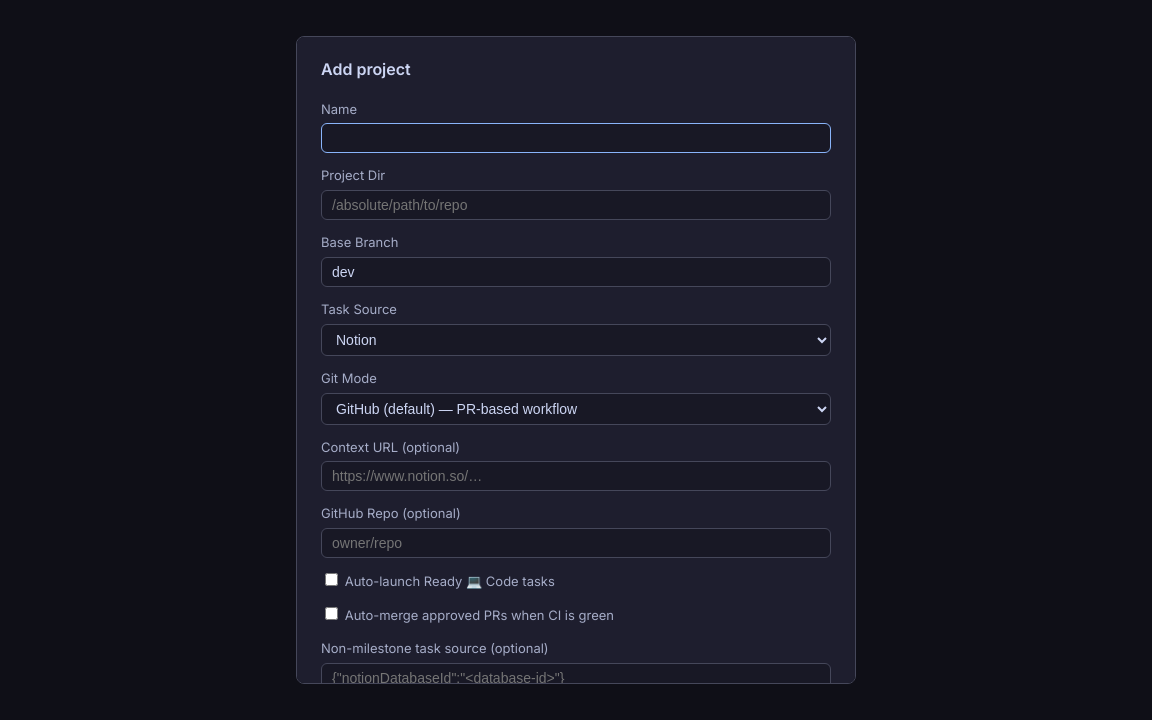
Test: ProjectFormModal › GitHub task source › blocks submit when Repository is empty for GitHub source
This screenshot has width=1152, height=720.
In the field labelled "Name": {"x": 576, "y": 138} [321,123,831,153], type "My Project"
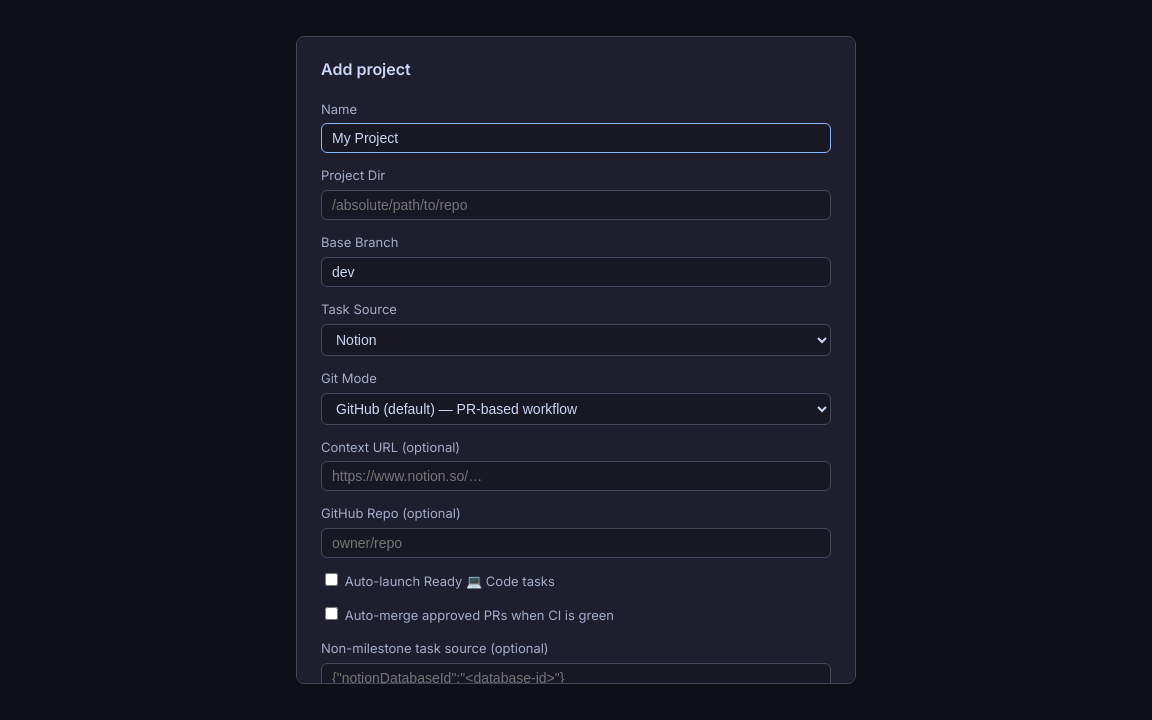
In the field labelled "Project Dir": {"x": 576, "y": 205} [321,190,831,220], type "/some/dir"
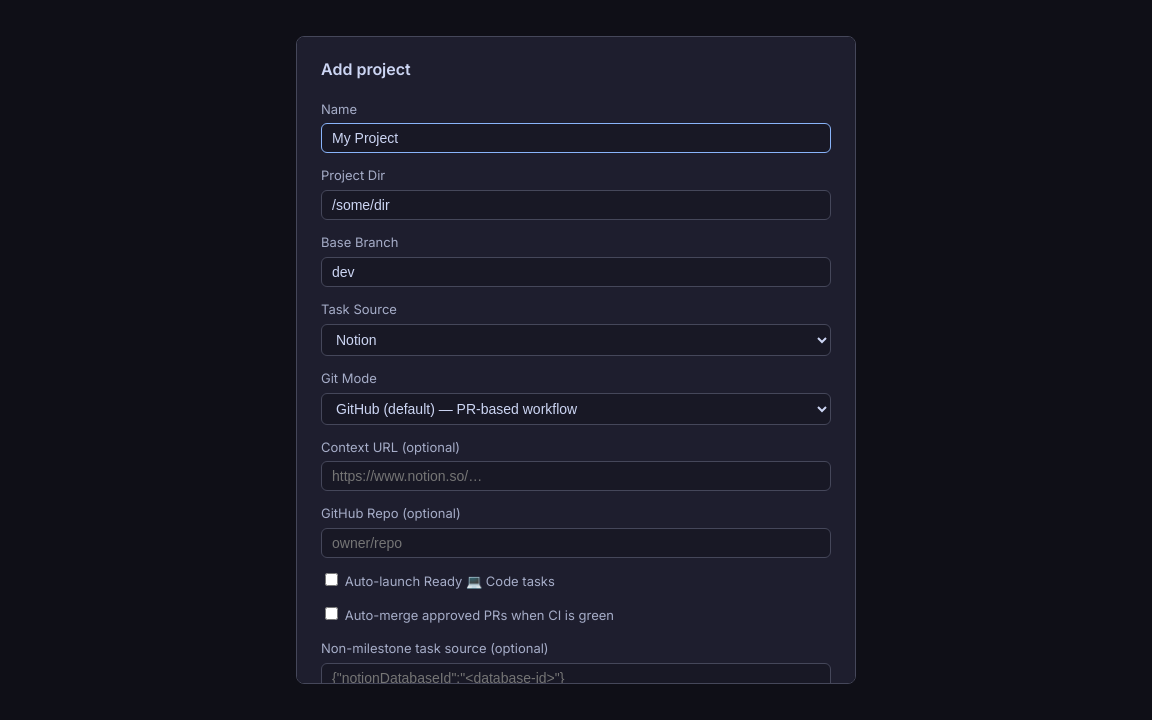
Select "GitHub Issues" in the dropdown labelled "Task Source": {"x": 576, "y": 340} [321,324,831,356]
(page scrolled)
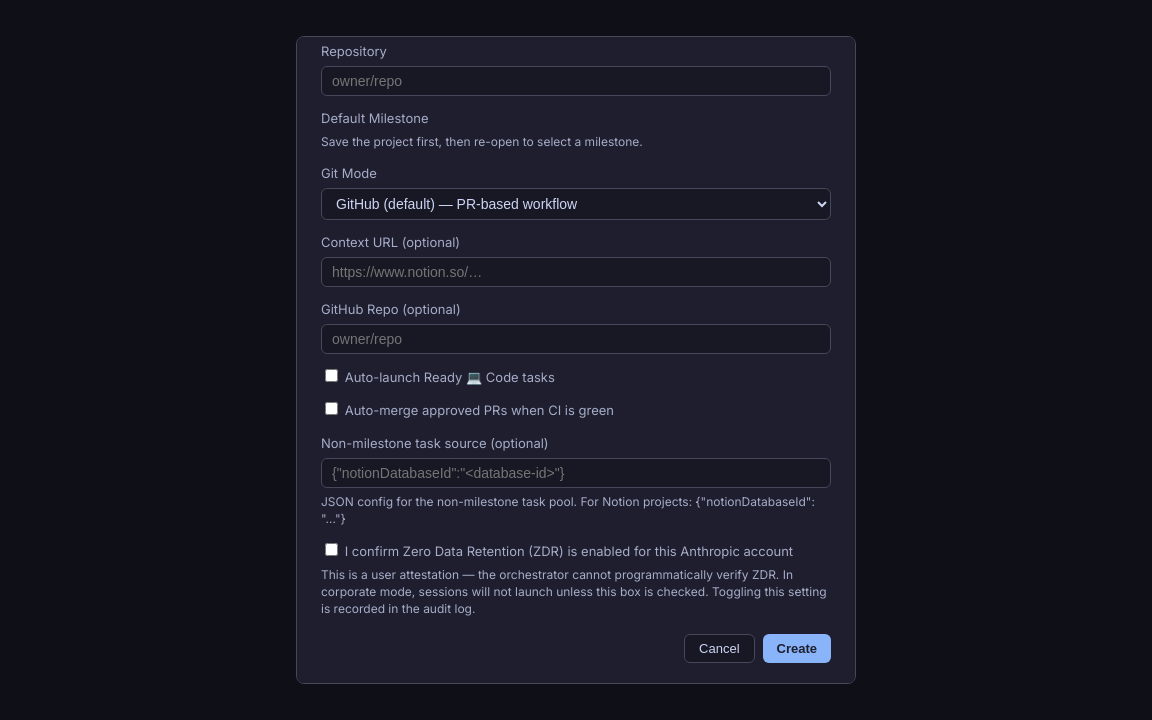
# Leave Repository empty
Click the button "Create": {"x": 797, "y": 648} [762,634,831,663]
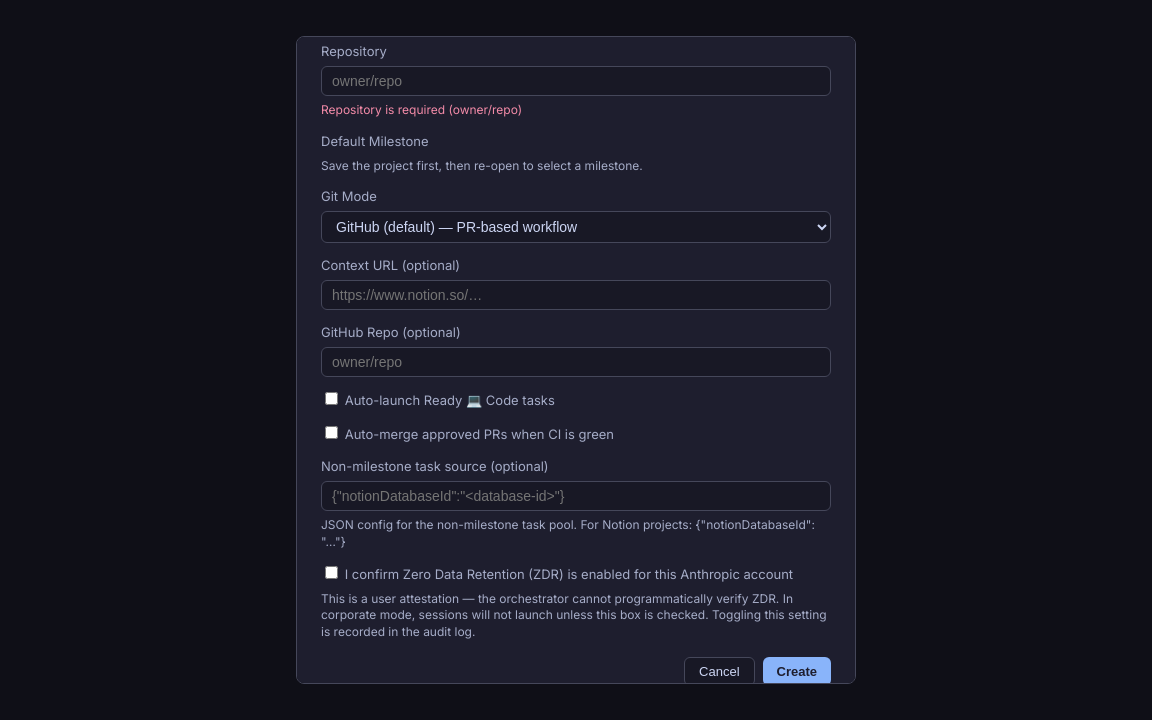
Check: the text "Repository is required (owner/repo)" is shown, box [321,102,522,117]
